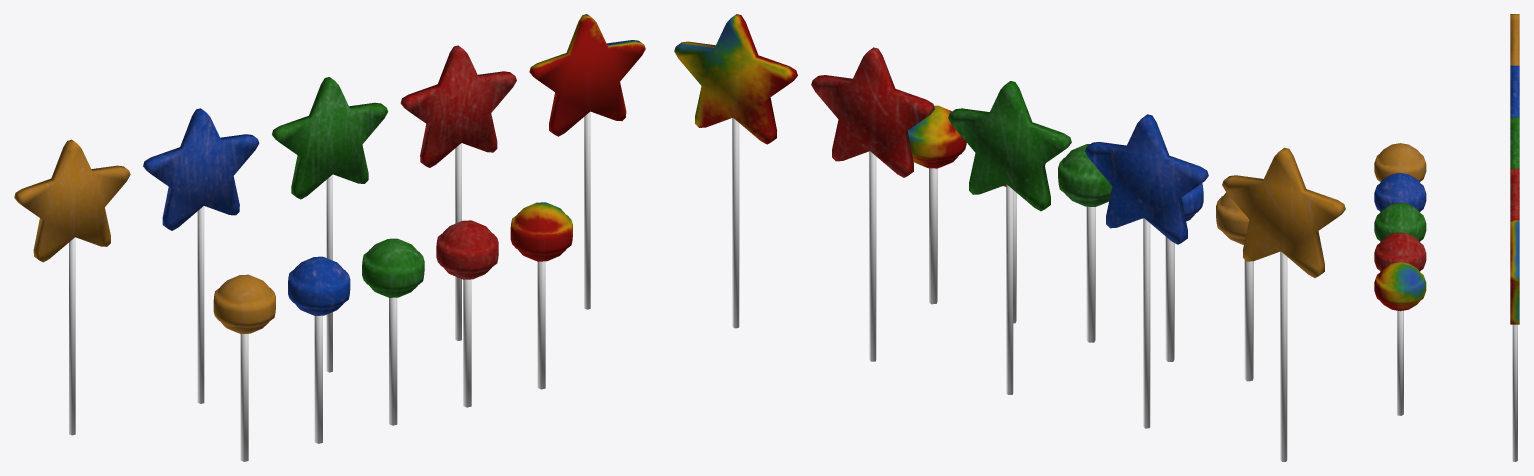
Rendered from lollipops-pack.glb.
The picture shows the model from 3 angles, left to right: view 1: azimuth 30°, elevation 25°; view 2: azimuth 150°, elevation 25°; view 3: azimuth 270°, elevation 25°; orthographic projection. The views are drawn at different scales.
Parts seen in each view (by area): view 1: Rainbow StarLollipop.004; view 2: Rainbow StarLollipop.004; view 3: Rainbow StarLollipop.004.
Part boxes in pixels (x1,y1,x2,y2): Rainbow StarLollipop.004: [14, 14, 645, 461]; Rainbow StarLollipop.004: [674, 14, 1345, 461]; Rainbow StarLollipop.004: [1374, 14, 1519, 461].
Size of the model in its own units: 3.38 by 1.5 by 0.8271.
2 materials, 2 textured.
